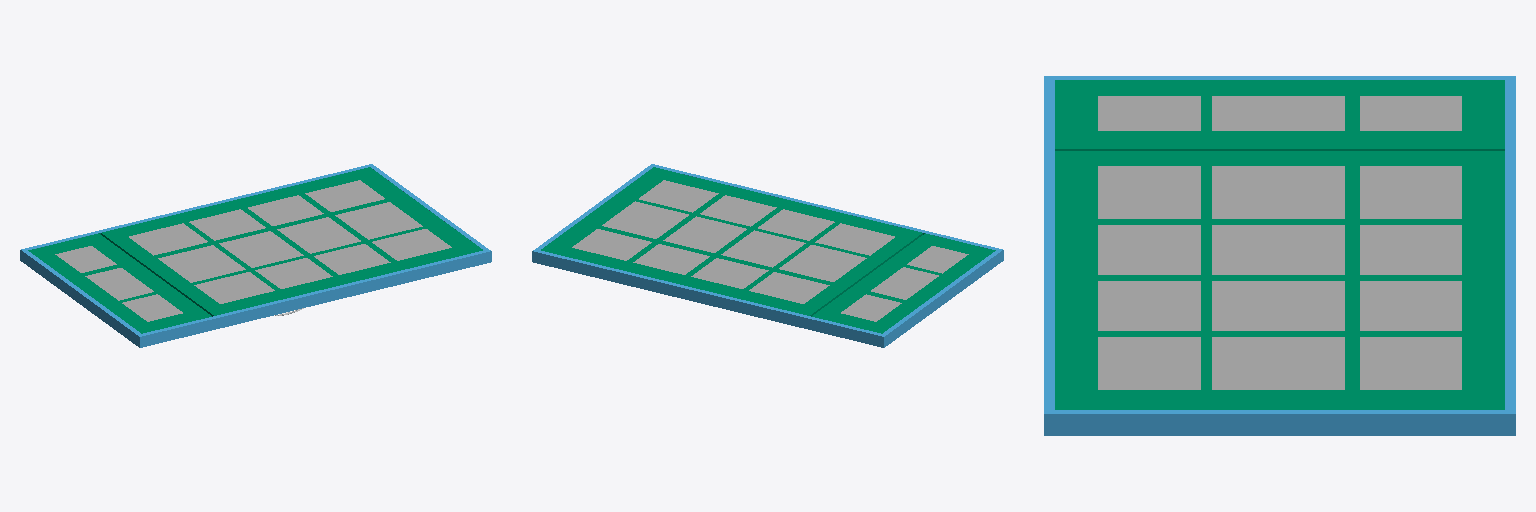
robot.urdf — window:
<?xml version="1.0" ?>
<robot name="window">
	<link name="base"/>
	<link name="link_0">
		<visual name="out-frame">
			<origin xyz="0 0 0"/>
			<geometry>
				<mesh filename="texture_dae/untitled.dae" scale="1 1 1"/>
			</geometry>
		</visual>
		<collision>
			<origin xyz="0 0 0"/>
			<geometry>
				<mesh filename="texture_dae/untitled.dae" scale="1 1 1"/>
			</geometry>
		</collision>
	</link>
	<joint name="joint_0" type="fixed">
		<origin rpy="1.570796326794897 0 -1.570796326794897" xyz="0 0 0"/>
		<child link="link_0"/>
		<parent link="base"/>
	</joint>
	<link name="link_1">
		<visual name="surf-board">
			<origin xyz="0.45913108715676143 -0.8025442126986633 0"/>
			<geometry>
				<mesh filename="texture_dae/untitled1.dae" scale="1 1 1"/>
			</geometry>
		</visual>
		<collision>
			<origin xyz="0.45913108715676143 -0.8025442126986633 0"/>
			<geometry>
				<mesh filename="texture_dae/untitled1.dae" scale="1 1 1"/>
			</geometry>
		</collision>
	</link>
	<joint name="joint_1" type="revolute">
		<origin xyz="-0.45913108715676143 0.8025442126986633 0"/>
		<axis xyz="0 -1 0"/>
		<child link="link_1"/>
		<parent link="link_0"/>
		<limit lower="0" upper="1.5079644737231006"/>
	</joint>
	<link name="link_2">
		<visual name="handle">
			<origin xyz="0 0 0"/>
			<geometry>
				<mesh filename="texture_dae/9969505-handle.dae" scale="1.2547392769269574 1.2547392769269574 1.2547392769269574"/>
			</geometry>
		</visual>
		<collision>
			<origin xyz="0 0 0"/>
			<geometry>
				<mesh filename="texture_dae/9969505-handle.dae" scale="1.2547392769269574 1.2547392769269574 1.2547392769269574"/>
			</geometry>
		</collision>
	</link>
	<joint name="joint_2" type="revolute">
		<origin xyz="0 0 0"/>
		<child link="link_2"/>
		<parent link="link_3"/>
		<axis xyz="0 0 1"/>
		<limit lower="0" upper="1.5079644737231006"/>
	</joint>
	<link name="link_3">
		<visual name="lock">
			<origin xyz="0 0 0"/>
			<geometry>
				<mesh filename="texture_dae/9969505-lock.dae" scale="1.2547392769269574 1.2547392769269574 1.2547392769269574"/>
			</geometry>
		</visual>
		<collision>
			<origin xyz="0 0 0"/>
			<geometry>
				<mesh filename="texture_dae/9969505-lock.dae" scale="1.2547392769269574 1.2547392769269574 1.2547392769269574"/>
			</geometry>
		</collision>
	</link>
	<joint name="joint_3" type="fixed">
		<origin xyz="0.8950382127191446 -0.8025442126986633 0.025110767922896127"/>
		<child link="link_3"/>
		<parent link="link_1"/>
	</joint>
</robot>

--- Render facts (derived) ---
The picture shows the robot from 3 angles, left to right: view 1: azimuth 30°, elevation 25°; view 2: azimuth 150°, elevation 25°; view 3: azimuth 270°, elevation 25°; orthographic projection.
Robot: window — 5 links, 4 joints (2 revolute, 2 fixed); root link base; default pose: every joint at zero.
Visible links, largest first — view 1: link_1, link_0; view 2: link_1, link_0; view 3: link_1, link_0.
Boxes of the visible links, x1,y1,x2,y2 form: link_1: [28, 167, 482, 333]; link_0: [20, 164, 491, 347]; link_1: [541, 167, 995, 333]; link_0: [532, 164, 1003, 347]; link_1: [1055, 80, 1504, 409]; link_0: [1044, 76, 1515, 435].
Bounding box of the posed robot: 1.65 × 0.9698 × 0.084 m (x, y, z).
Meshes: 4 distinct files referenced, 4 mesh visuals loaded (4 Collada DAE).
